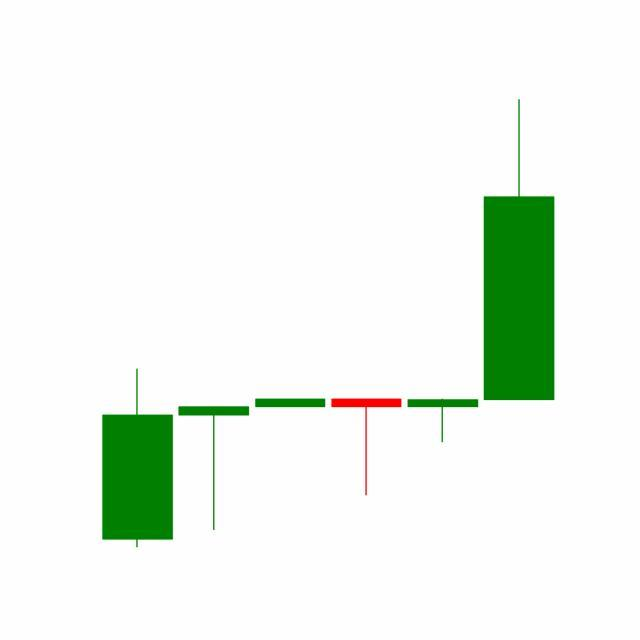Hanging Man: (404, 399, 482, 445)
